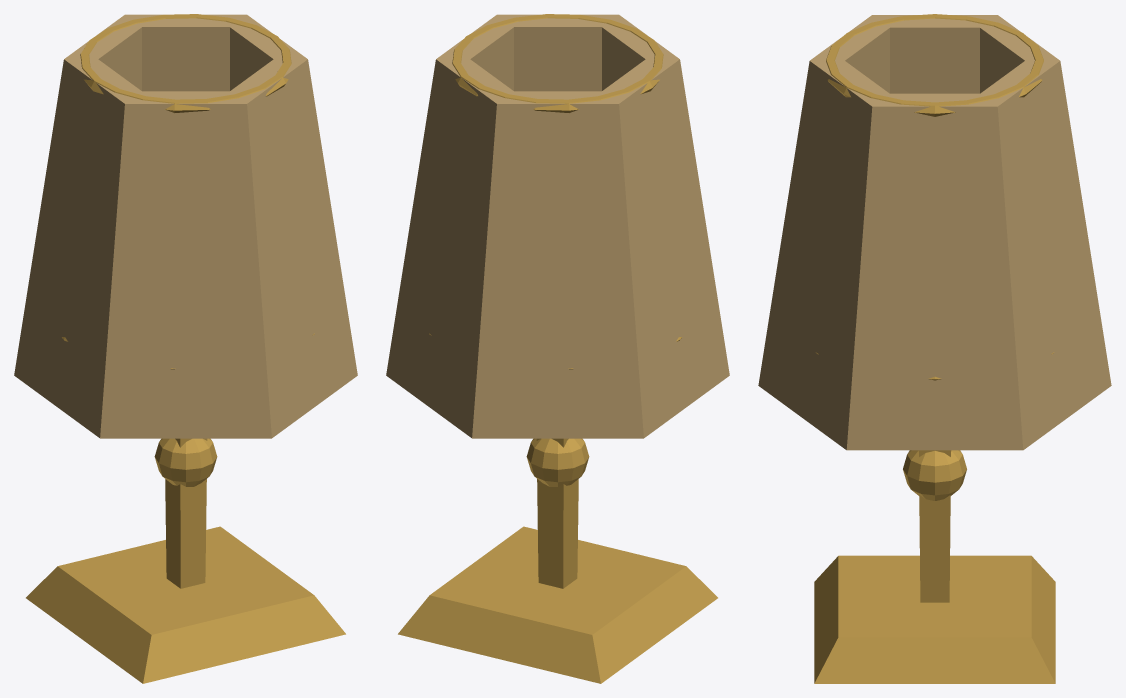
File: lampRoundTable.glb
3 renders of one model, left to right at view 1: azimuth 30°, elevation 25°; view 2: azimuth 150°, elevation 25°; view 3: azimuth 270°, elevation 25°, orthographic. The views are drawn at different scales.
Visible parts, largest first — view 1: lampRoundTable(Clone); view 2: lampRoundTable(Clone); view 3: lampRoundTable(Clone).
Part boxes in pixels (x1,y1,x2,y2): lampRoundTable(Clone): (14,14,357,683); lampRoundTable(Clone): (386,14,729,683); lampRoundTable(Clone): (758,14,1111,683).
Size of the model in its own units: 0.152 by 0.3142 by 0.1756.
